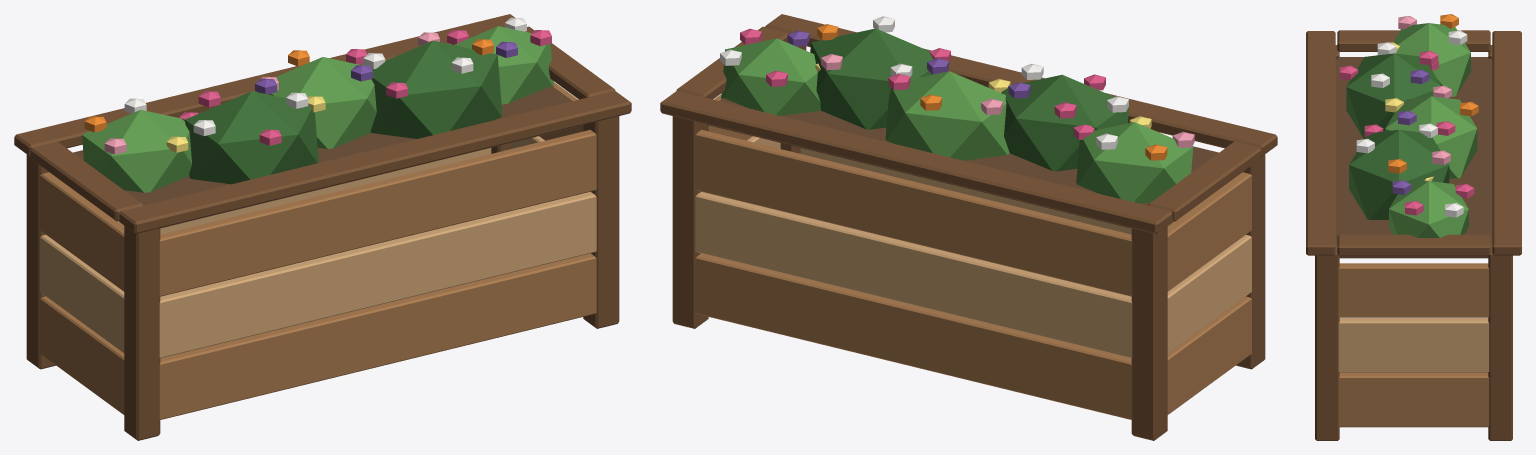
Rendered from SC_Ter_Planter_Box.gltf.
The picture shows the model from 3 angles, left to right: view 1: azimuth 30°, elevation 25°; view 2: azimuth 150°, elevation 25°; view 3: azimuth 270°, elevation 25°; orthographic projection. The views are drawn at different scales.
Parts seen in each view (by area): view 1: SC_Ter_Planter_Box; view 2: SC_Ter_Planter_Box; view 3: SC_Ter_Planter_Box.
Part boxes in pixels (x1,y1,x2,y2): SC_Ter_Planter_Box: [14, 14, 631, 440]; SC_Ter_Planter_Box: [660, 14, 1277, 440]; SC_Ter_Planter_Box: [1306, 14, 1521, 440].
Bounding box in the file's own units: 1.04 × 0.56 × 0.436.
Materials: 1 (1 with a texture image).
